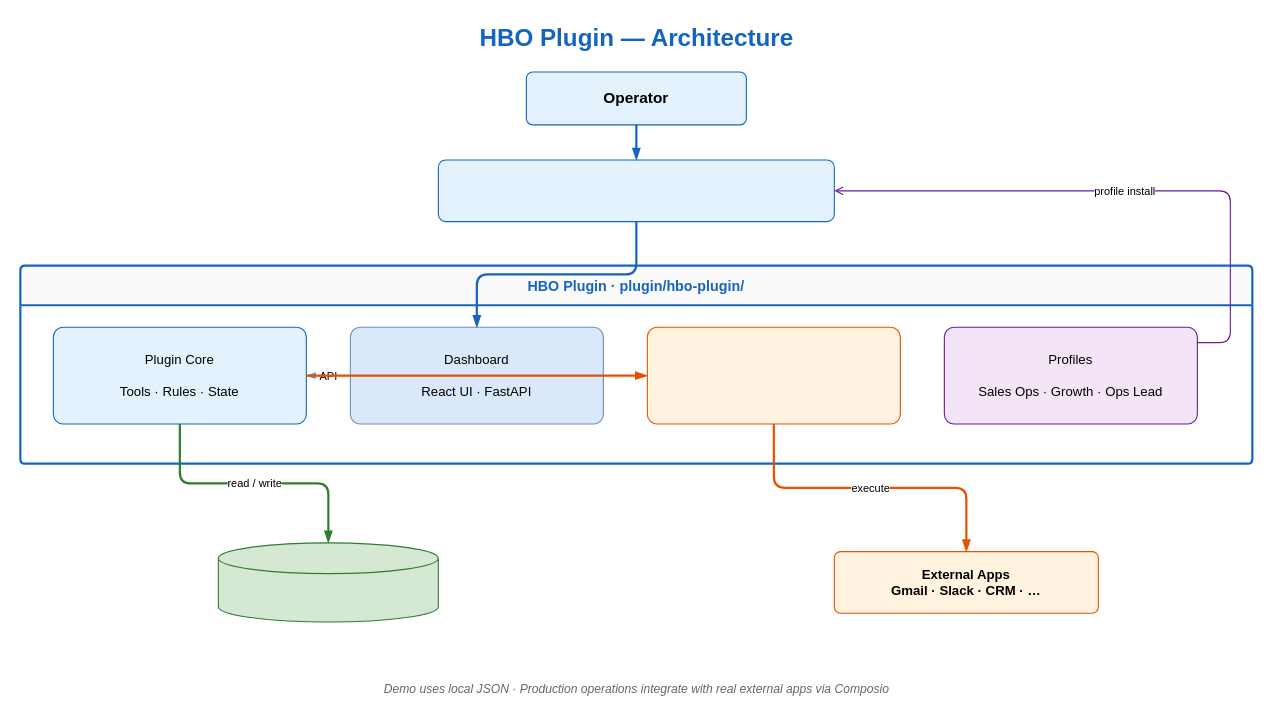
Some shapes in this 1272 by 719 pixel diagram are drawn without their labels. Each missing label, with the centre of its shape:
"Hermes Platform Agent · Dashboard" belongs at (635,190).
"Local State JSON files" belongs at (327,582).
"Tool Bridge composio-cli skill" belongs at (773,375).
